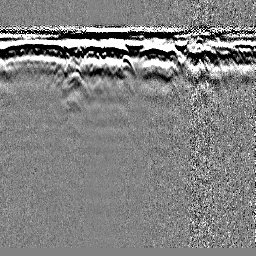cavity: (116, 53, 137, 76)
